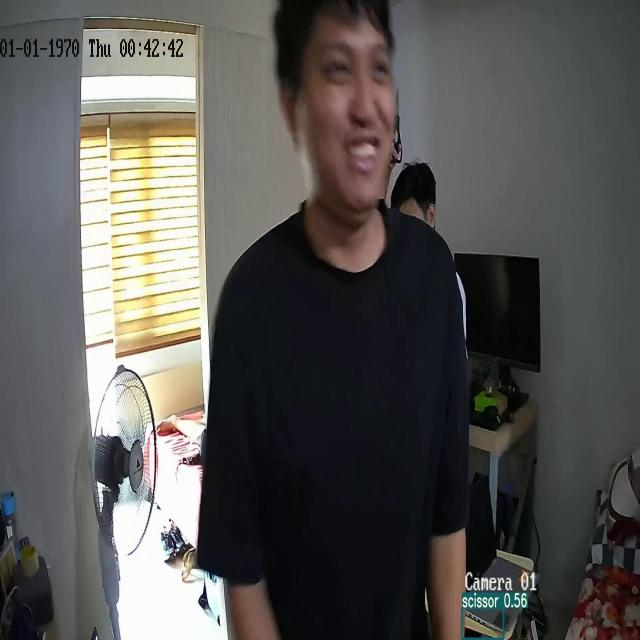scissor: (391, 87, 403, 164)
